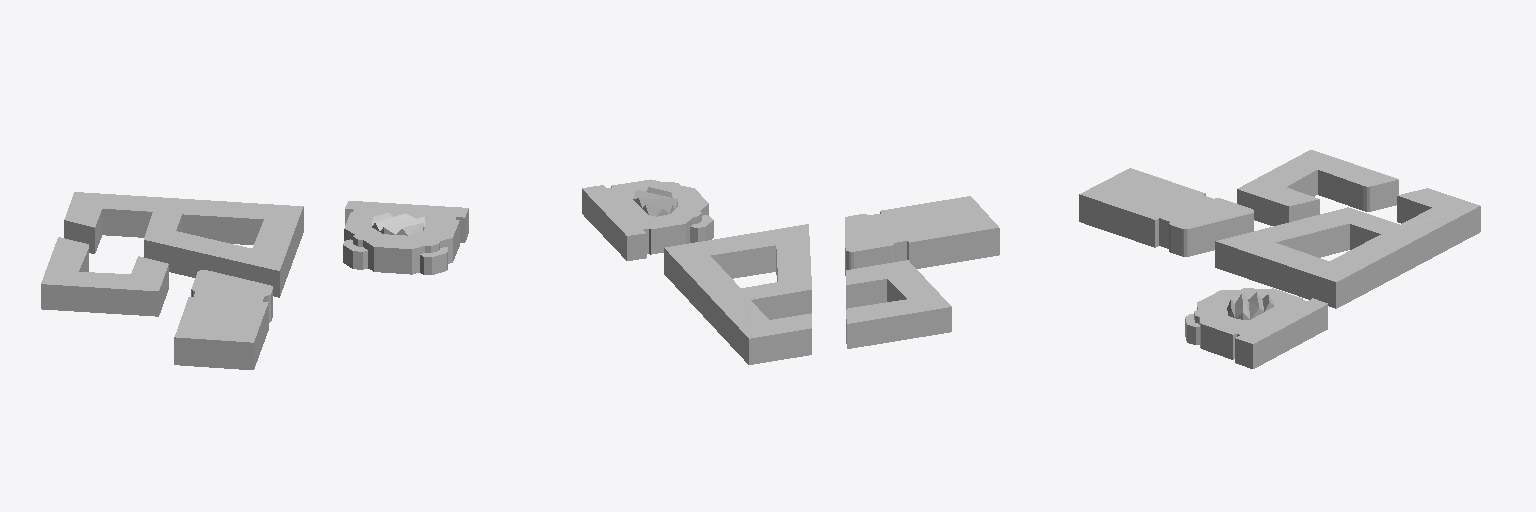
The model's file is sc2_gebaeude.obj.
3 renders of one model, left to right at view 1: azimuth 30°, elevation 25°; view 2: azimuth 150°, elevation 25°; view 3: azimuth 270°, elevation 25°, orthographic.
Visible parts, largest first — view 1: Infozentrum, Bauernbib, HSZ, Numerikinstitut; view 2: Infozentrum, HSZ, Bauernbib, Numerikinstitut; view 3: Infozentrum, HSZ, Bauernbib, Numerikinstitut.
Part boxes in pixels (bbox=[...]): Infozentrum: bbox=[64, 192, 303, 297]; Bauernbib: bbox=[343, 201, 468, 274]; HSZ: bbox=[174, 270, 272, 369]; Numerikinstitut: bbox=[41, 237, 168, 316]; Infozentrum: bbox=[664, 224, 811, 364]; HSZ: bbox=[845, 196, 999, 275]; Bauernbib: bbox=[582, 179, 713, 260]; Numerikinstitut: bbox=[846, 260, 951, 348]; Infozentrum: bbox=[1215, 188, 1480, 308]; HSZ: bbox=[1079, 168, 1253, 256]; Bauernbib: bbox=[1185, 288, 1327, 368]; Numerikinstitut: bbox=[1237, 150, 1398, 225].
Bounding box in the file's own units: 19.34 × 1.51 × 16.83.